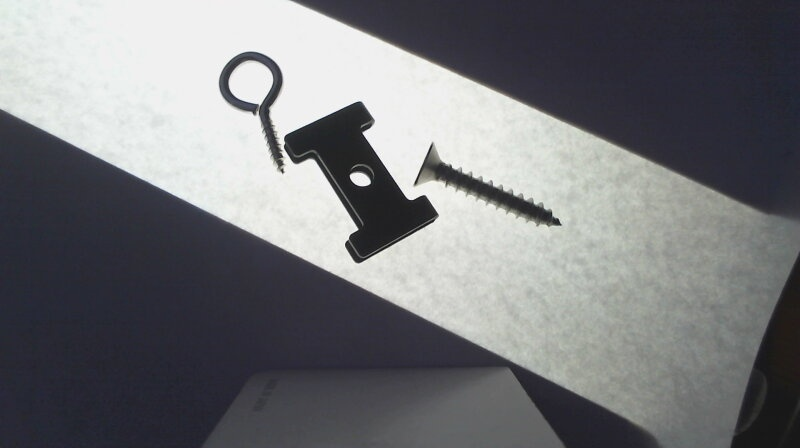O001: (215, 48, 286, 177)
O002: (282, 98, 437, 265)
S001: (414, 143, 558, 226)
